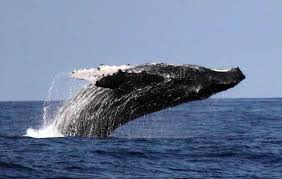humpback: (58, 63, 247, 137)
